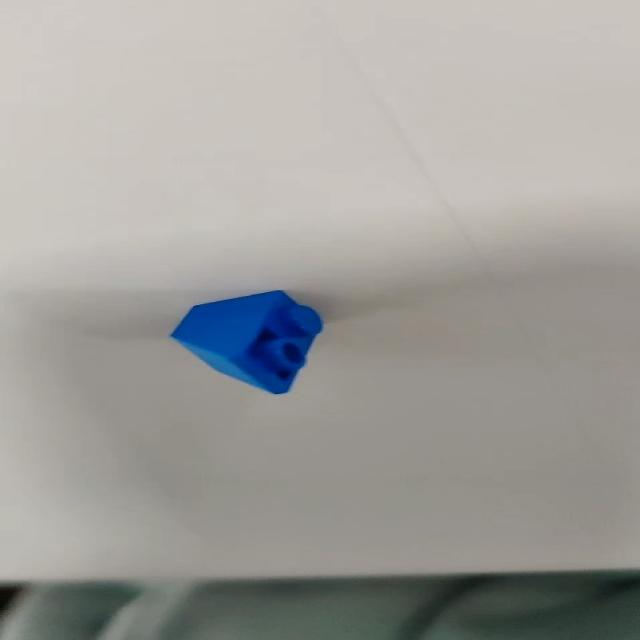X1x2x1: (172, 285, 329, 395)
